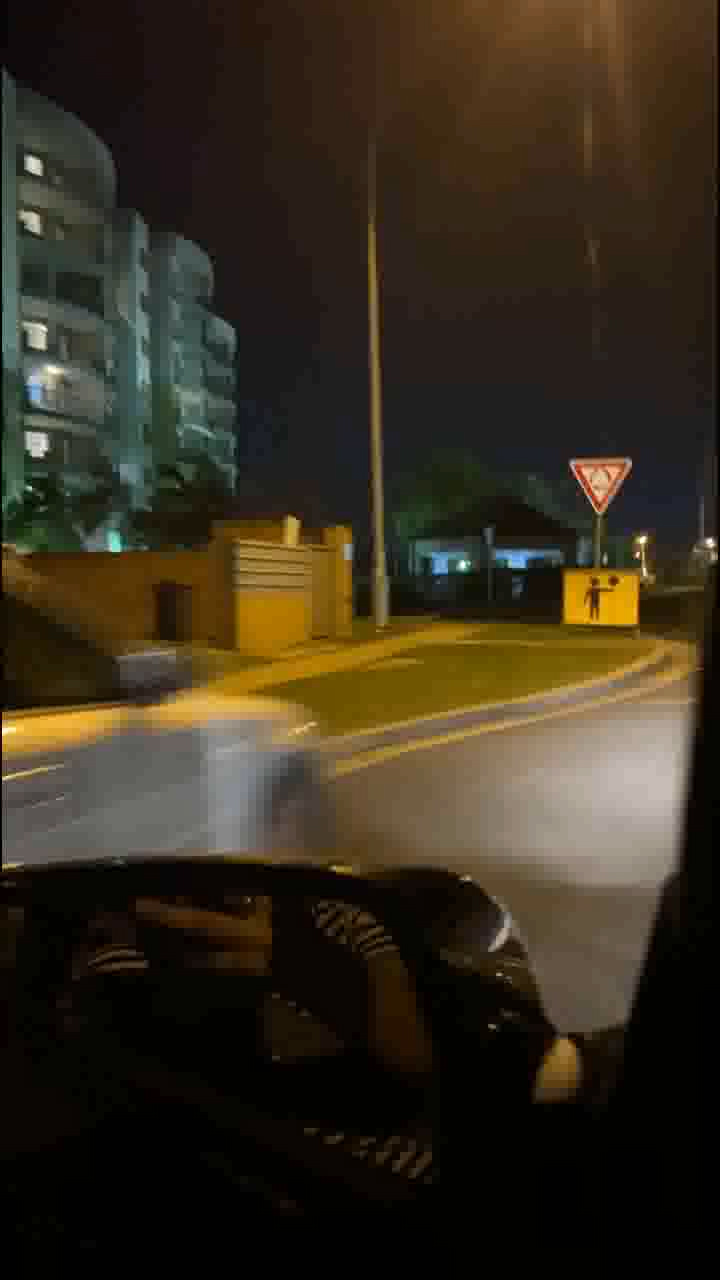prepare to stop board: (560, 568, 645, 628)
